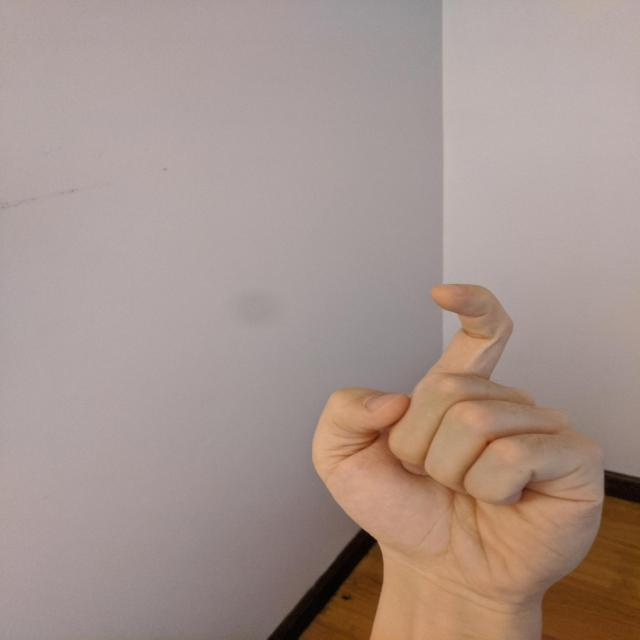X: (303, 280, 612, 602)
